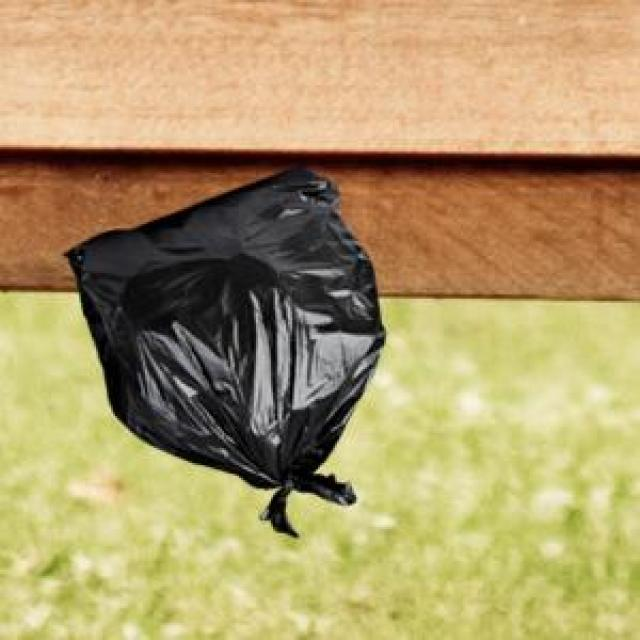miscellaneous trash: (60, 162, 382, 533)
